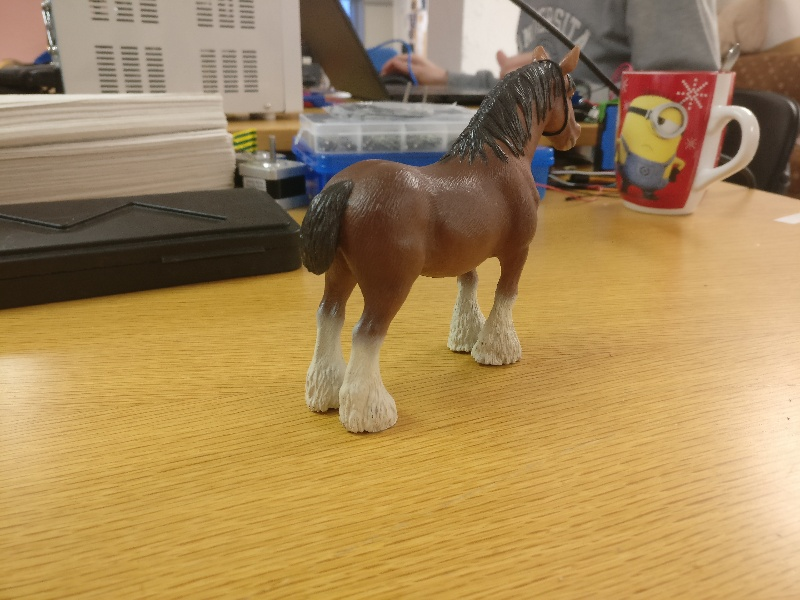toy: (295, 30, 586, 441)
